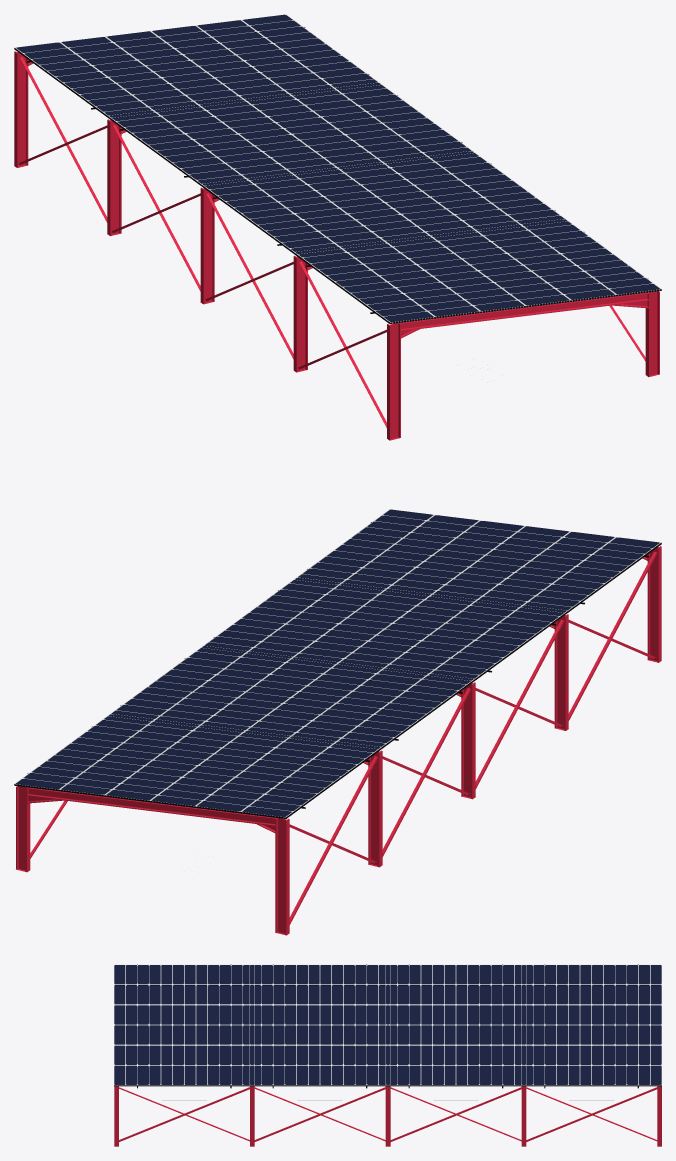
The model's file is monopente.gltf.
3 views of the same model, one above another, from view 1: azimuth 30°, elevation 25°; view 2: azimuth 150°, elevation 25°; view 3: azimuth 270°, elevation 25° (orthographic). The views are drawn at different scales.
Parts seen in each view (by area): view 1: Cube.003, Cube.001, Cube.002, Cube.004, Plane.029, Plane.010, Plane.028, Plane.066, Plane.031, Plane.056, Plane, Plane.038 (+5 smaller); view 2: Cube.003, Cube.002, Cube.001, Cube.004, Plane.067, Plane.066, Plane.094, Plane.028, Plane.038, Plane.084, Plane.069, Plane.047 (+3 smaller); view 3: Cube.003, Cube.002, Cube.004, Cube.001, Plane.020, Plane.076, Plane.104, Plane.048, Plane.059, Plane.001, Plane.031, Plane.069 (+1 smaller).
Boxes of the visible parts, x1=… form: Cube.003: x1=14, y1=14, x2=382, y2=119; Cube.001: x1=293, y1=219, x2=661, y2=323; Cube.002: x1=200, y1=151, x2=568, y2=255; Cube.004: x1=107, y1=82, x2=475, y2=187; Plane.029: x1=400, y1=292, x2=648, y2=331; Plane.010: x1=200, y1=187, x2=214, y2=304; Plane.028: x1=387, y1=323, x2=400, y2=440; Plane.066: x1=14, y1=51, x2=28, y2=167; Plane.031: x1=645, y1=291, x2=659, y2=376; Plane.056: x1=108, y1=119, x2=121, y2=235; Plane: x1=294, y1=256, x2=307, y2=372; Plane.038: x1=293, y1=256, x2=306, y2=372; Cube.003: x1=14, y1=713, x2=382, y2=818; Cube.002: x1=201, y1=577, x2=568, y2=682; Cube.001: x1=294, y1=509, x2=661, y2=613; Cube.004: x1=108, y1=645, x2=474, y2=750; Plane.067: x1=27, y1=787, x2=275, y2=826; Plane.066: x1=275, y1=818, x2=289, y2=935; Plane.094: x1=368, y1=751, x2=382, y2=867; Plane.028: x1=647, y1=546, x2=661, y2=662; Plane.038: x1=554, y1=614, x2=568, y2=730; Plane.084: x1=461, y1=683, x2=473, y2=798; Plane.069: x1=16, y1=786, x2=30, y2=871; Plane.047: x1=568, y1=551, x2=657, y2=720; Cube.003: x1=521, y1=964, x2=661, y2=1088; Cube.002: x1=249, y1=964, x2=390, y2=1088; Cube.004: x1=385, y1=964, x2=526, y2=1088; Cube.001: x1=114, y1=964, x2=254, y2=1088; Plane.020: x1=254, y1=1087, x2=385, y2=1141; Plane.076: x1=526, y1=1087, x2=657, y2=1141; Plane.104: x1=390, y1=1087, x2=521, y2=1141; Plane.048: x1=119, y1=1087, x2=249, y2=1141; Plane.059: x1=521, y1=1086, x2=526, y2=1146; Plane.001: x1=250, y1=1086, x2=254, y2=1146; Plane.031: x1=114, y1=1086, x2=118, y2=1146; Plane.069: x1=657, y1=1086, x2=661, y2=1146.
Bounding box in the file's own units: 22.94 × 9.31 × 63.51.
